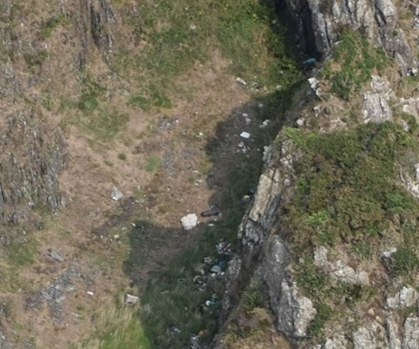together_barrel: (188, 237, 235, 298)
white_in_green: (172, 200, 212, 244), (193, 192, 232, 236), (227, 118, 266, 154)
